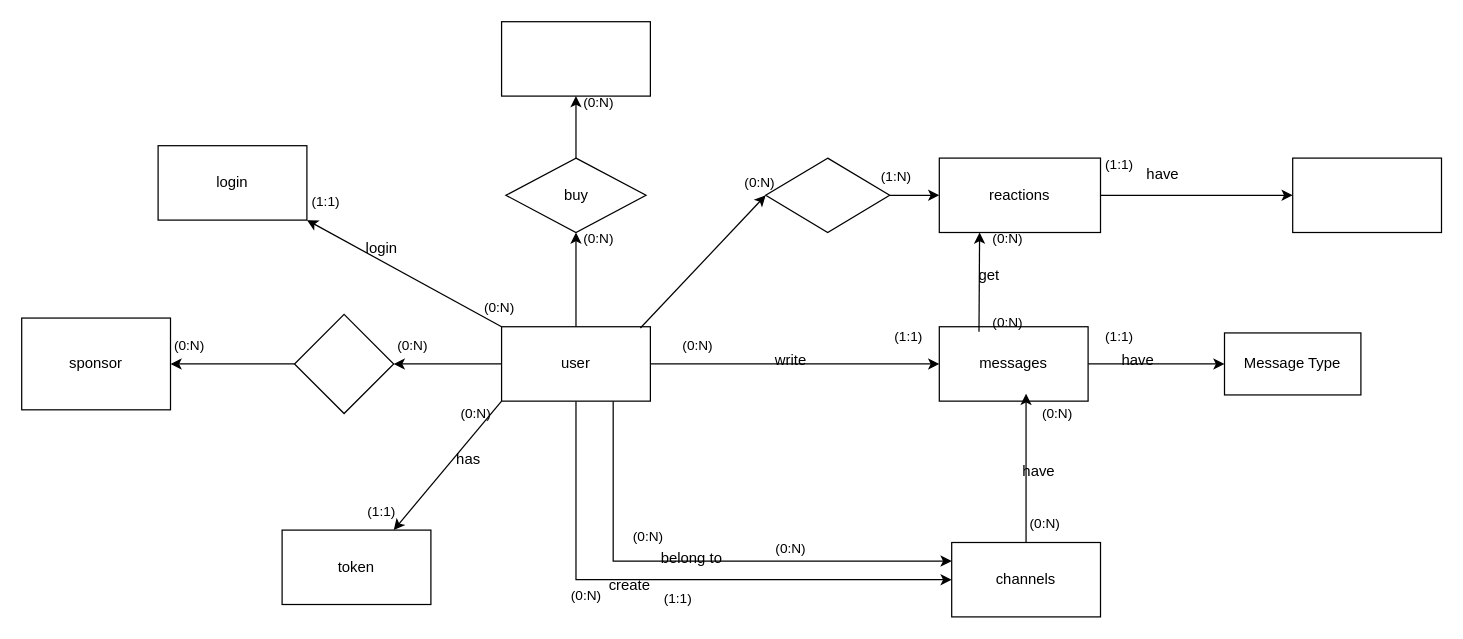
This 1463x639 diagram has some shape labels left out. The box of each missing label's shape, as (x1, y1, x2, y2) in pixels:
be rewared: (293, 313, 394, 414)
give: (764, 157, 890, 232)
plan: (500, 20, 650, 96)
reaction type: (1291, 157, 1442, 232)
